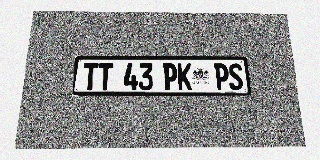3: (138, 63, 153, 90)
4: (124, 63, 138, 90)
K: (177, 63, 192, 90)
P: (214, 63, 229, 90), (163, 63, 177, 90)
S: (228, 63, 244, 90)
T: (82, 63, 99, 90), (97, 63, 113, 90)
